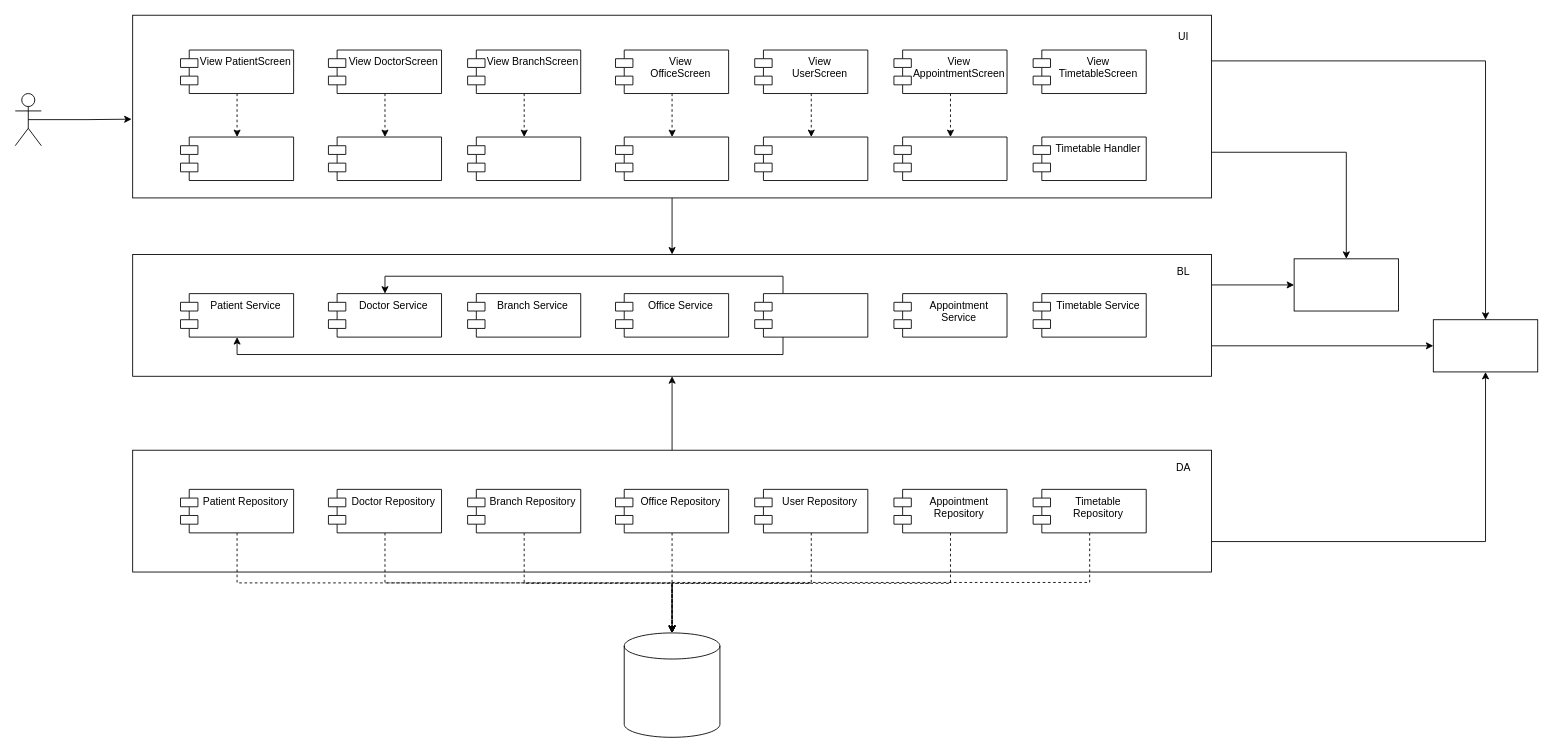
Image size: 1553x753. Some labels were removed from this diagram. Each missing label, with the box of its shape:
Actor: (14, 93, 41, 146)
Appointment Handler: (893, 136, 1007, 181)
Branch Handler: (467, 136, 581, 181)
Config: (1432, 319, 1538, 372)
DB: (623, 632, 720, 737)
Doctor Handler: (328, 136, 442, 181)
Logger: (1293, 258, 1399, 311)
Office Handler: (615, 136, 729, 181)
Patient Handler: (180, 136, 294, 181)
User Handler: (754, 136, 868, 181)
User Service: (754, 293, 868, 337)
